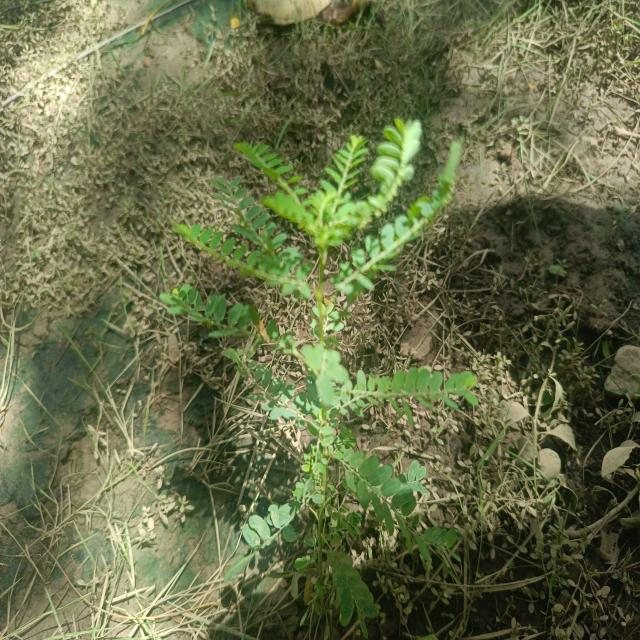weed: (147, 115, 480, 640)
